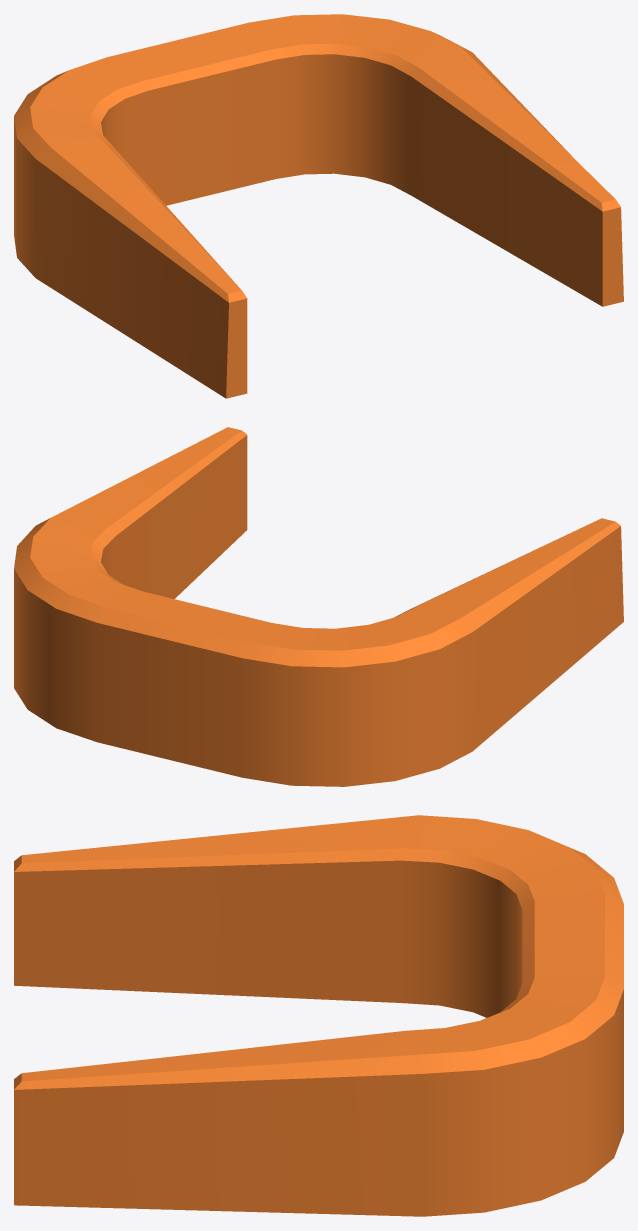
File: Scoop.fbx
The picture shows the model from 3 angles, top to bottom: view 1: azimuth 30°, elevation 25°; view 2: azimuth 150°, elevation 25°; view 3: azimuth 270°, elevation 25°; orthographic projection. The views are drawn at different scales.
Visible parts, largest first — view 1: Scoop; view 2: Scoop; view 3: Scoop.
Part boxes in pixels (x1,y1,x2,y2): Scoop: (14,14,623,398); Scoop: (14,427,623,786); Scoop: (14,815,623,1216).
Bounding box in the file's own units: 790 × 223 × 800.
